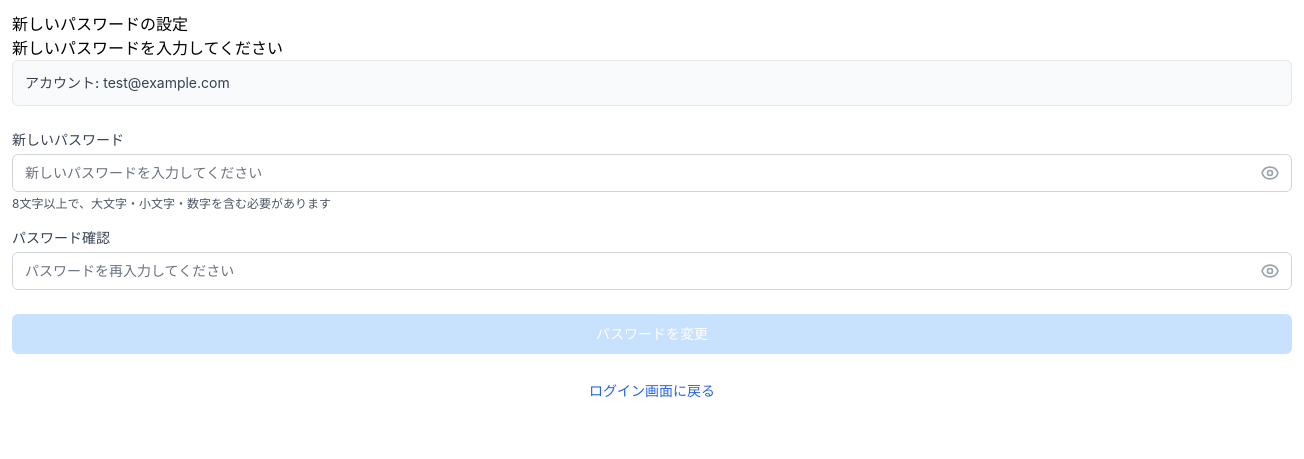
Test: PasswordResetPage › ナビゲーション › 新しいパスワード設定成功後に成功画面が表示される
Note: パスワードは大文字、小文字、数字を含む必要がある
Type "NewPassword123" into the password field labelled "新しいパスワード" at (652, 173), box 12,154 -> 1292,192
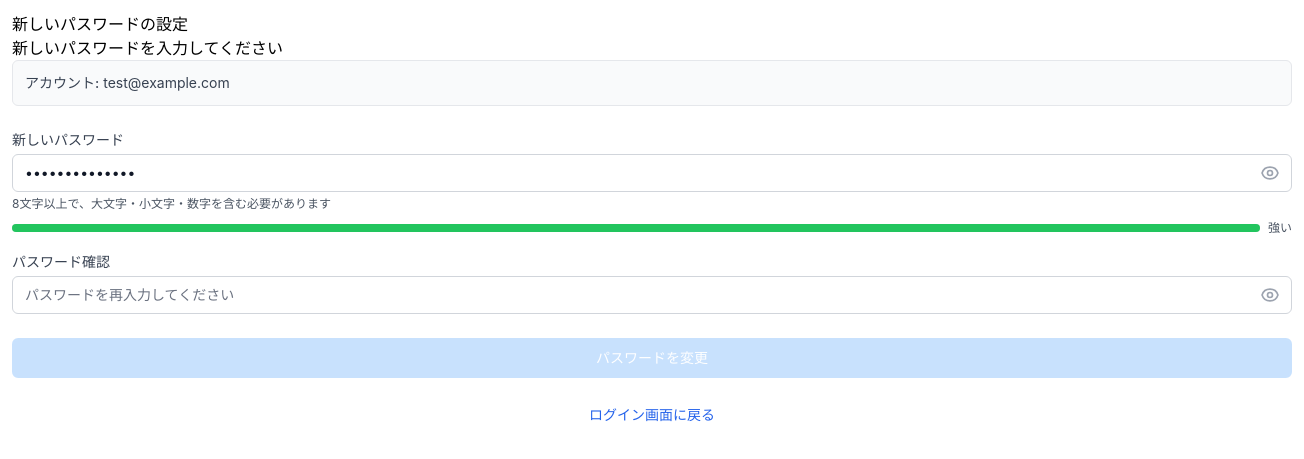
Type "NewPassword123" into the password field labelled "パスワード確認" at (652, 295), box 12,276 -> 1292,314
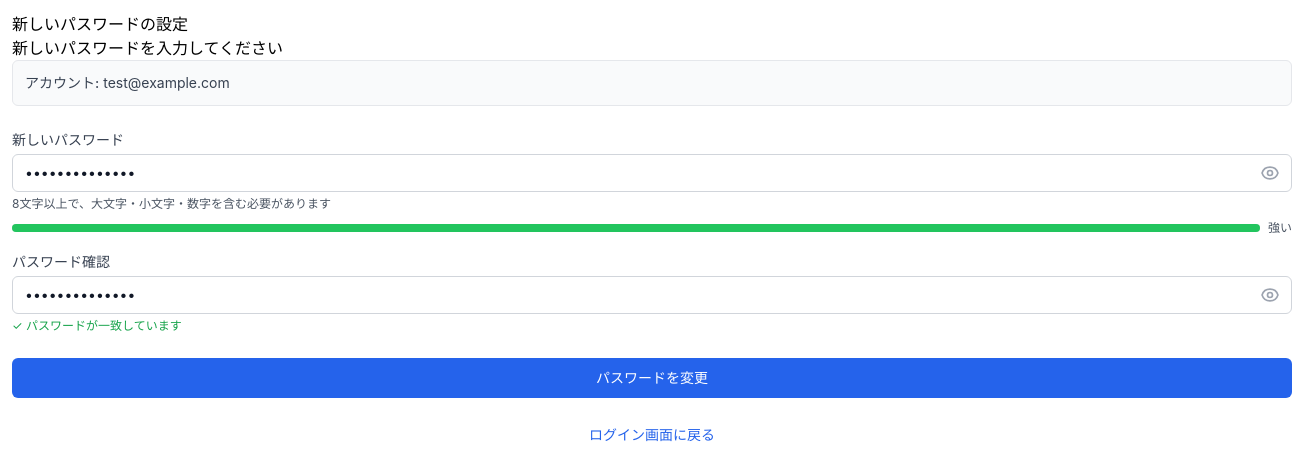
expect the button "パスワードを変更" is enabled: met
Click the button "パスワードを変更" at (652, 378), box 12,358 -> 1292,398
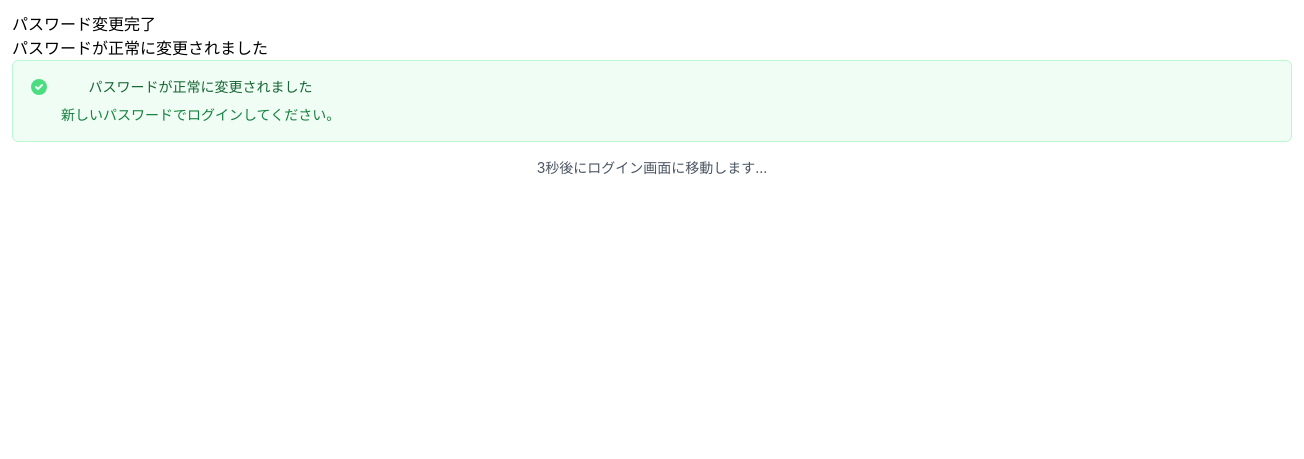
expect the heading "パスワード変更完了" is shown: met, box 12,14 -> 156,34
expect the text "パスワードが正常に変更されました" is shown: met, box 12,38 -> 268,58
